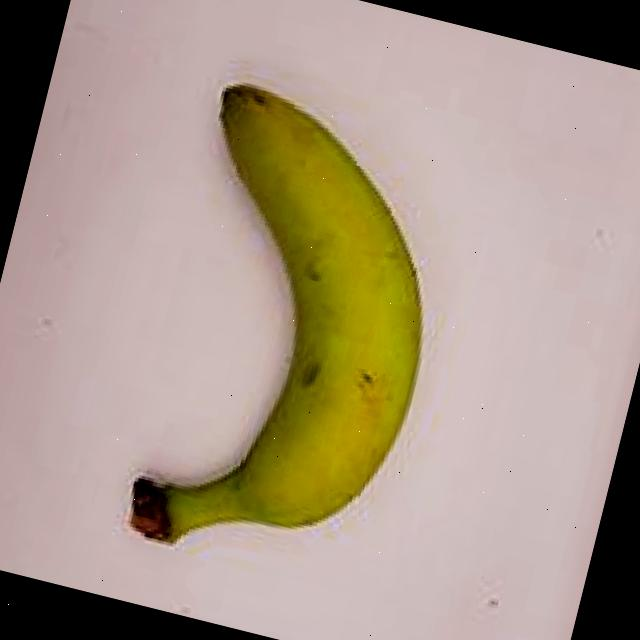Unripe: (46, 53, 520, 610)
